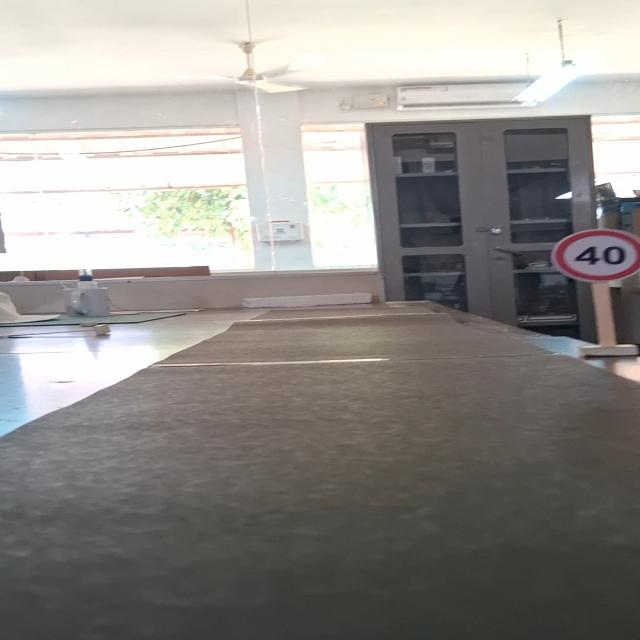Speed40: (548, 227, 640, 283)
